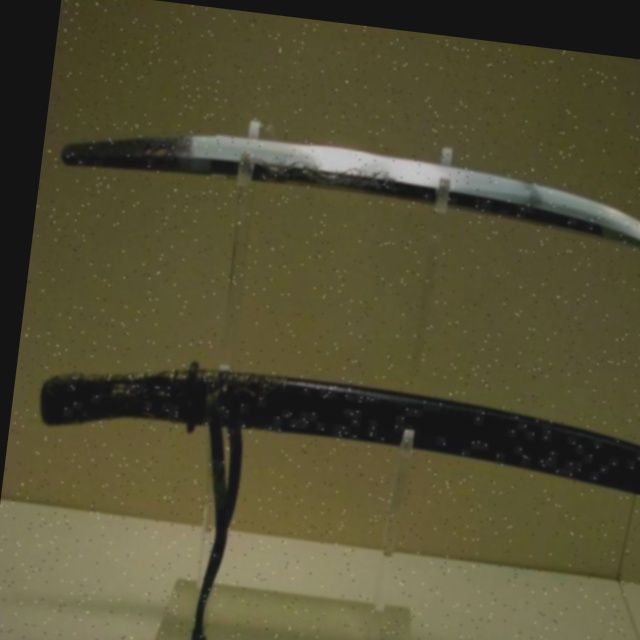Sharp-Object: (44, 105, 640, 283)
